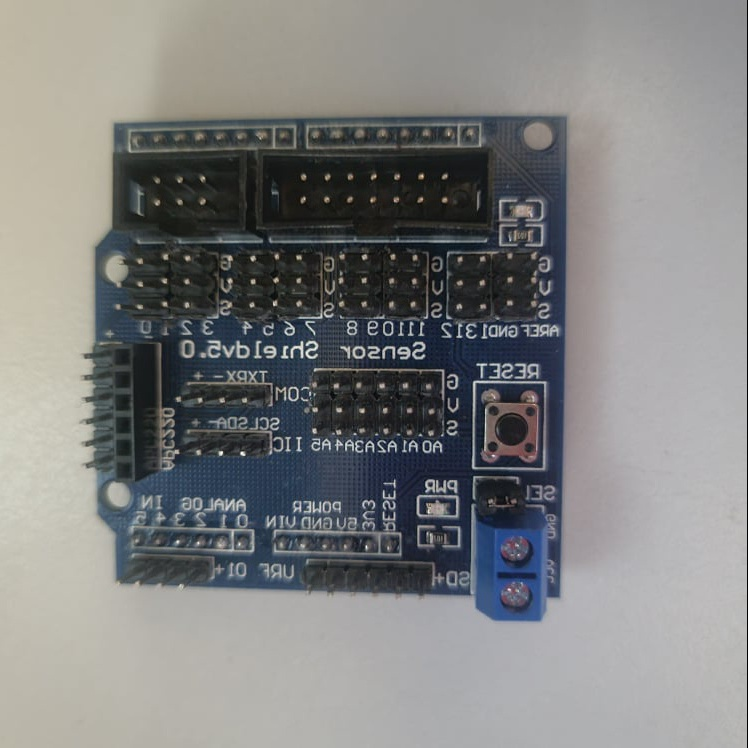5V EXPANSION: (85, 116, 566, 624)
